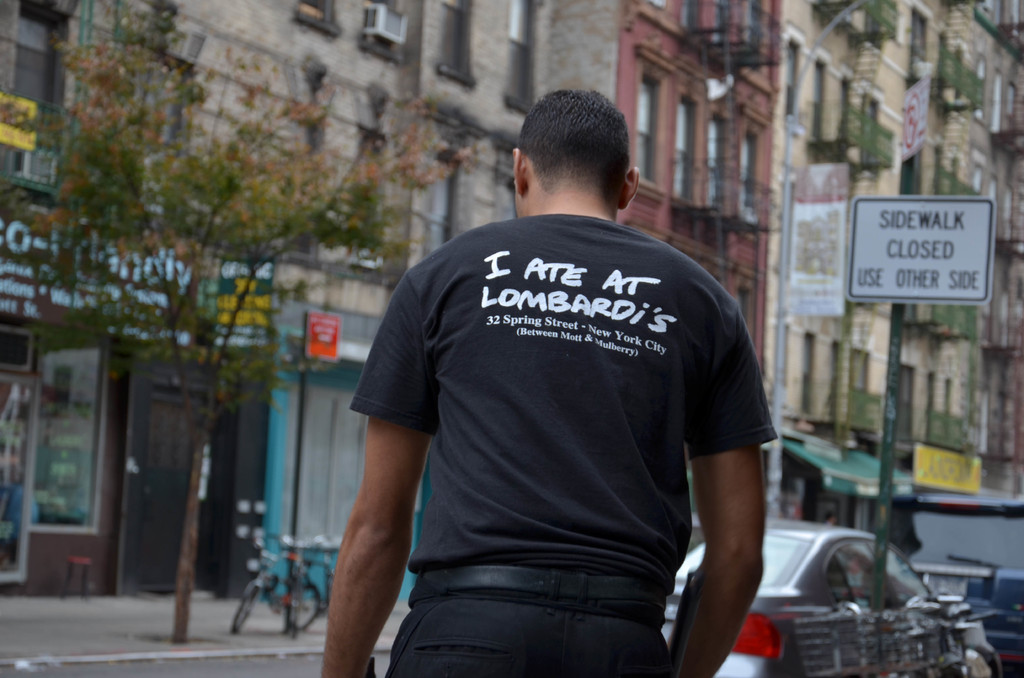Car: (657, 513, 1000, 677), (875, 491, 1023, 677)
